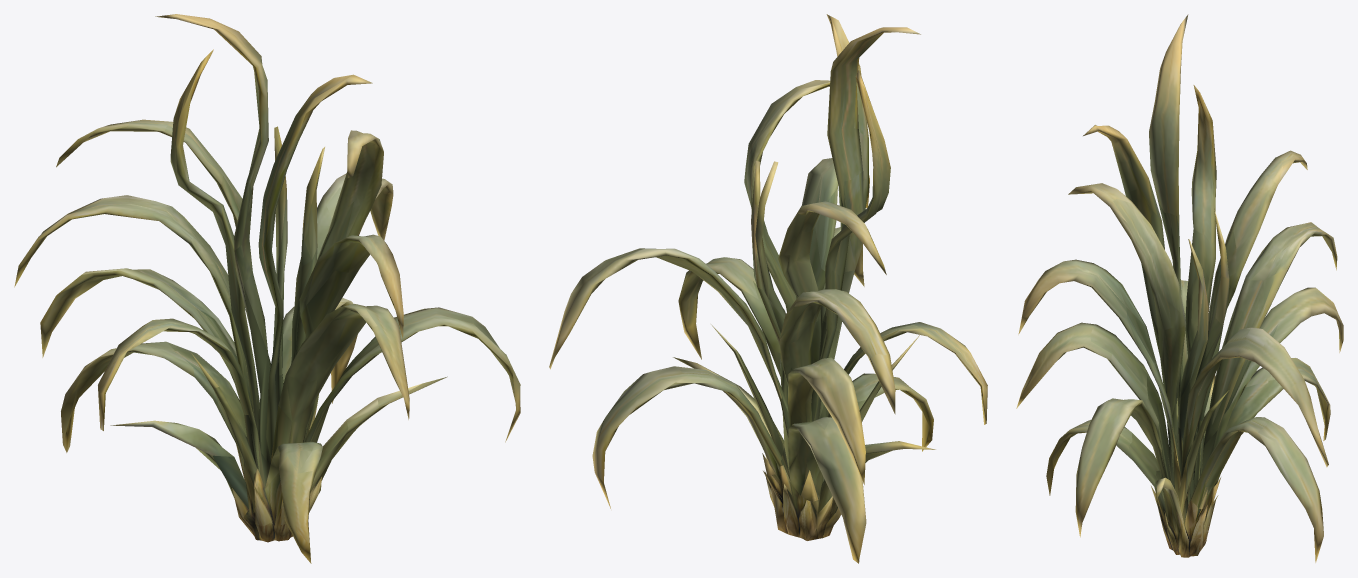
The model's file is grass-tall-v1.glb.
3 renders of one model, left to right at view 1: azimuth 30°, elevation 25°; view 2: azimuth 150°, elevation 25°; view 3: azimuth 270°, elevation 25°, orthographic. The views are drawn at different scales.
Parts seen in each view (by area): view 1: tripo_node_c422e587-136d-41dc-a539-763c219390ac; view 2: tripo_node_c422e587-136d-41dc-a539-763c219390ac; view 3: tripo_node_c422e587-136d-41dc-a539-763c219390ac.
Part boxes in pixels (left/top/right/bottom): tripo_node_c422e587-136d-41dc-a539-763c219390ac: left=14, top=14, right=520, bottom=563; tripo_node_c422e587-136d-41dc-a539-763c219390ac: left=549, top=14, right=987, bottom=563; tripo_node_c422e587-136d-41dc-a539-763c219390ac: left=1016, top=14, right=1343, bottom=562.
Size of the model in its own units: 0.4584 by 0.6491 by 0.3995.
1 material, 1 textured.
